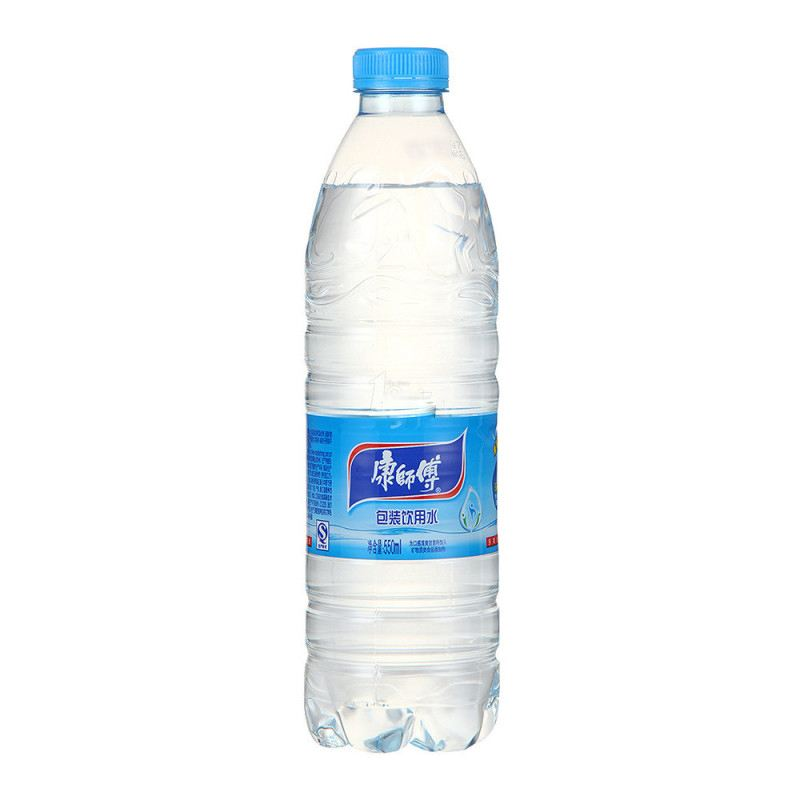amwater: (263, 31, 544, 769)
